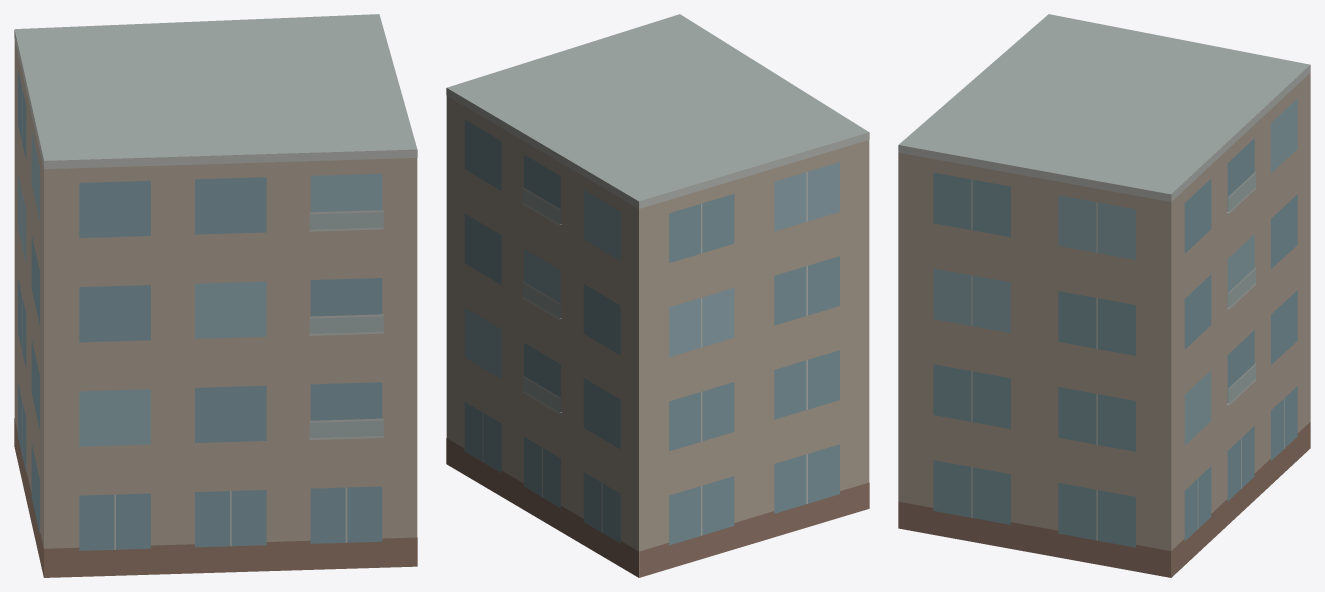
Rendered from survey-upis-32525626.glb.
3 views of the same model, side by side, from view 1: azimuth 30°, elevation 25°; view 2: azimuth 150°, elevation 25°; view 3: azimuth 270°, elevation 25° (orthographic). The views are drawn at different scales.
Parts seen in each view (by area): view 1: survey-upis-32525626.tmp; view 2: survey-upis-32525626.tmp; view 3: survey-upis-32525626.tmp.
Boxes of the visible parts, left/top/right/bottom form: survey-upis-32525626.tmp: left=14, top=14, right=417, bottom=577; survey-upis-32525626.tmp: left=446, top=14, right=869, bottom=577; survey-upis-32525626.tmp: left=898, top=14, right=1310, bottom=577.
Size of the model in its own units: 12.32 by 12.2 by 11.9.
